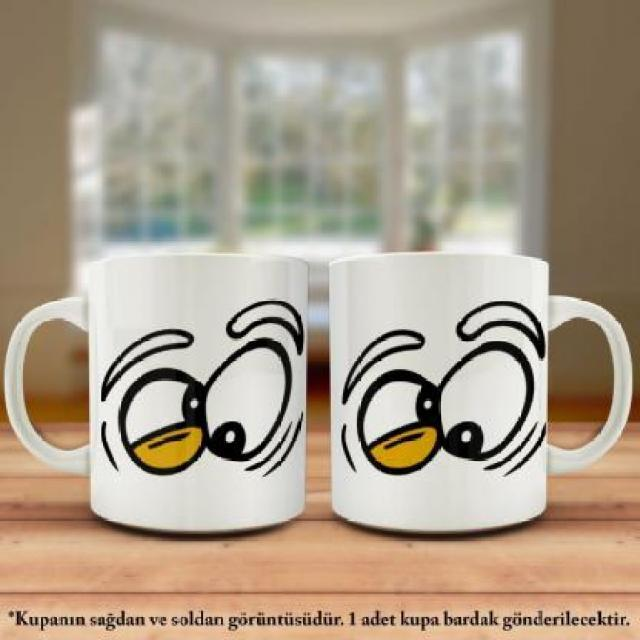taza: (7, 242, 318, 540), (326, 235, 633, 530)
